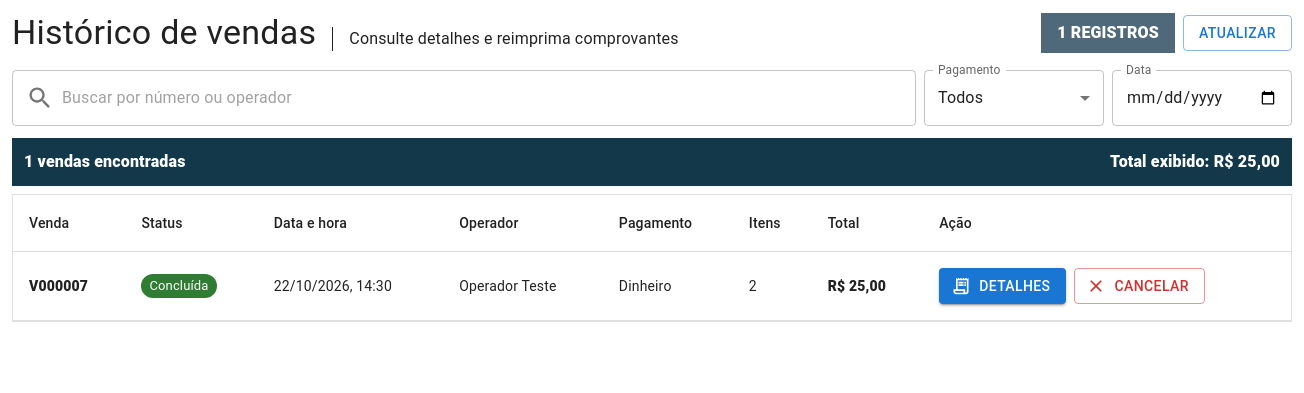
Test: SalesHistoryPage › filtra o histórico sem perder o estado vazio informativo
Type "inexistente" into the field with placeholder "Buscar por número ou operador" at x=489, y=98, box [62,70,916,126]
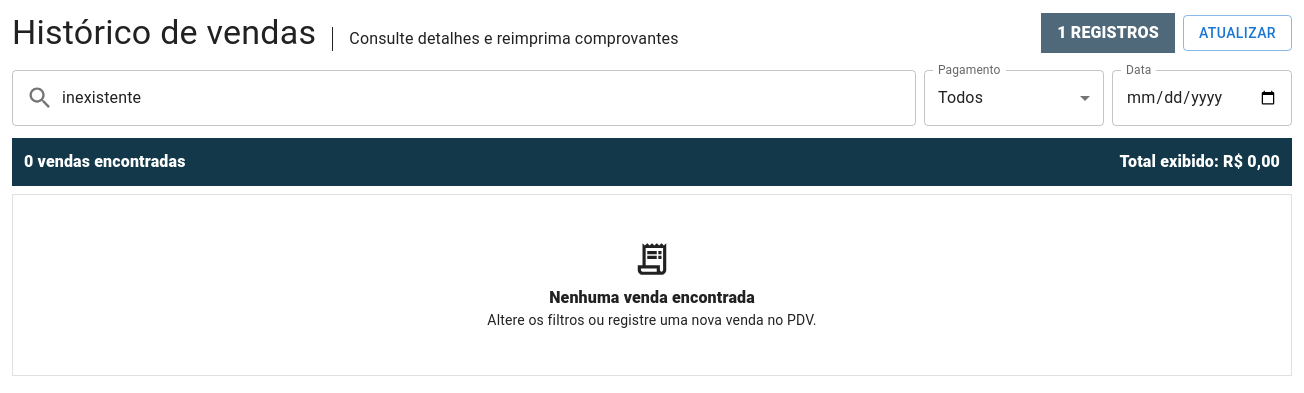
Result: the text "Nenhuma venda encontrada" is shown at [549,286,755,310]
